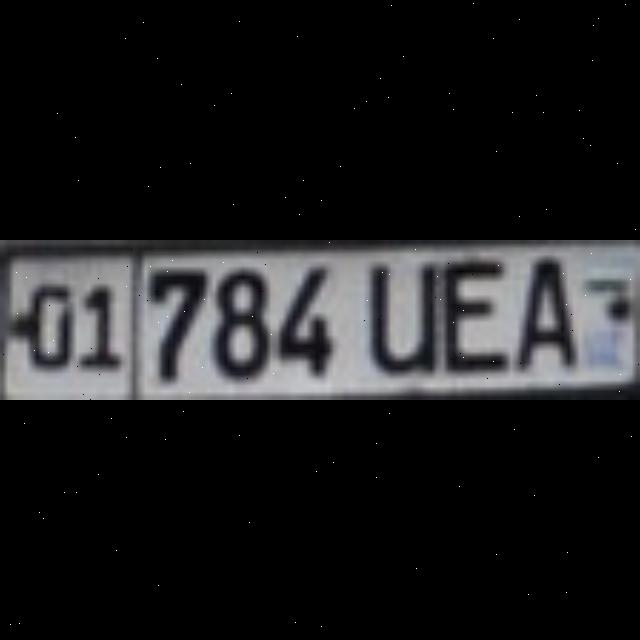0: (17, 274, 63, 360)
1: (69, 274, 109, 360)
4: (268, 257, 326, 371)
7: (137, 257, 200, 371)
8: (205, 257, 262, 371)
A: (508, 246, 566, 360)
E: (434, 252, 504, 366)
U: (359, 252, 428, 366)
